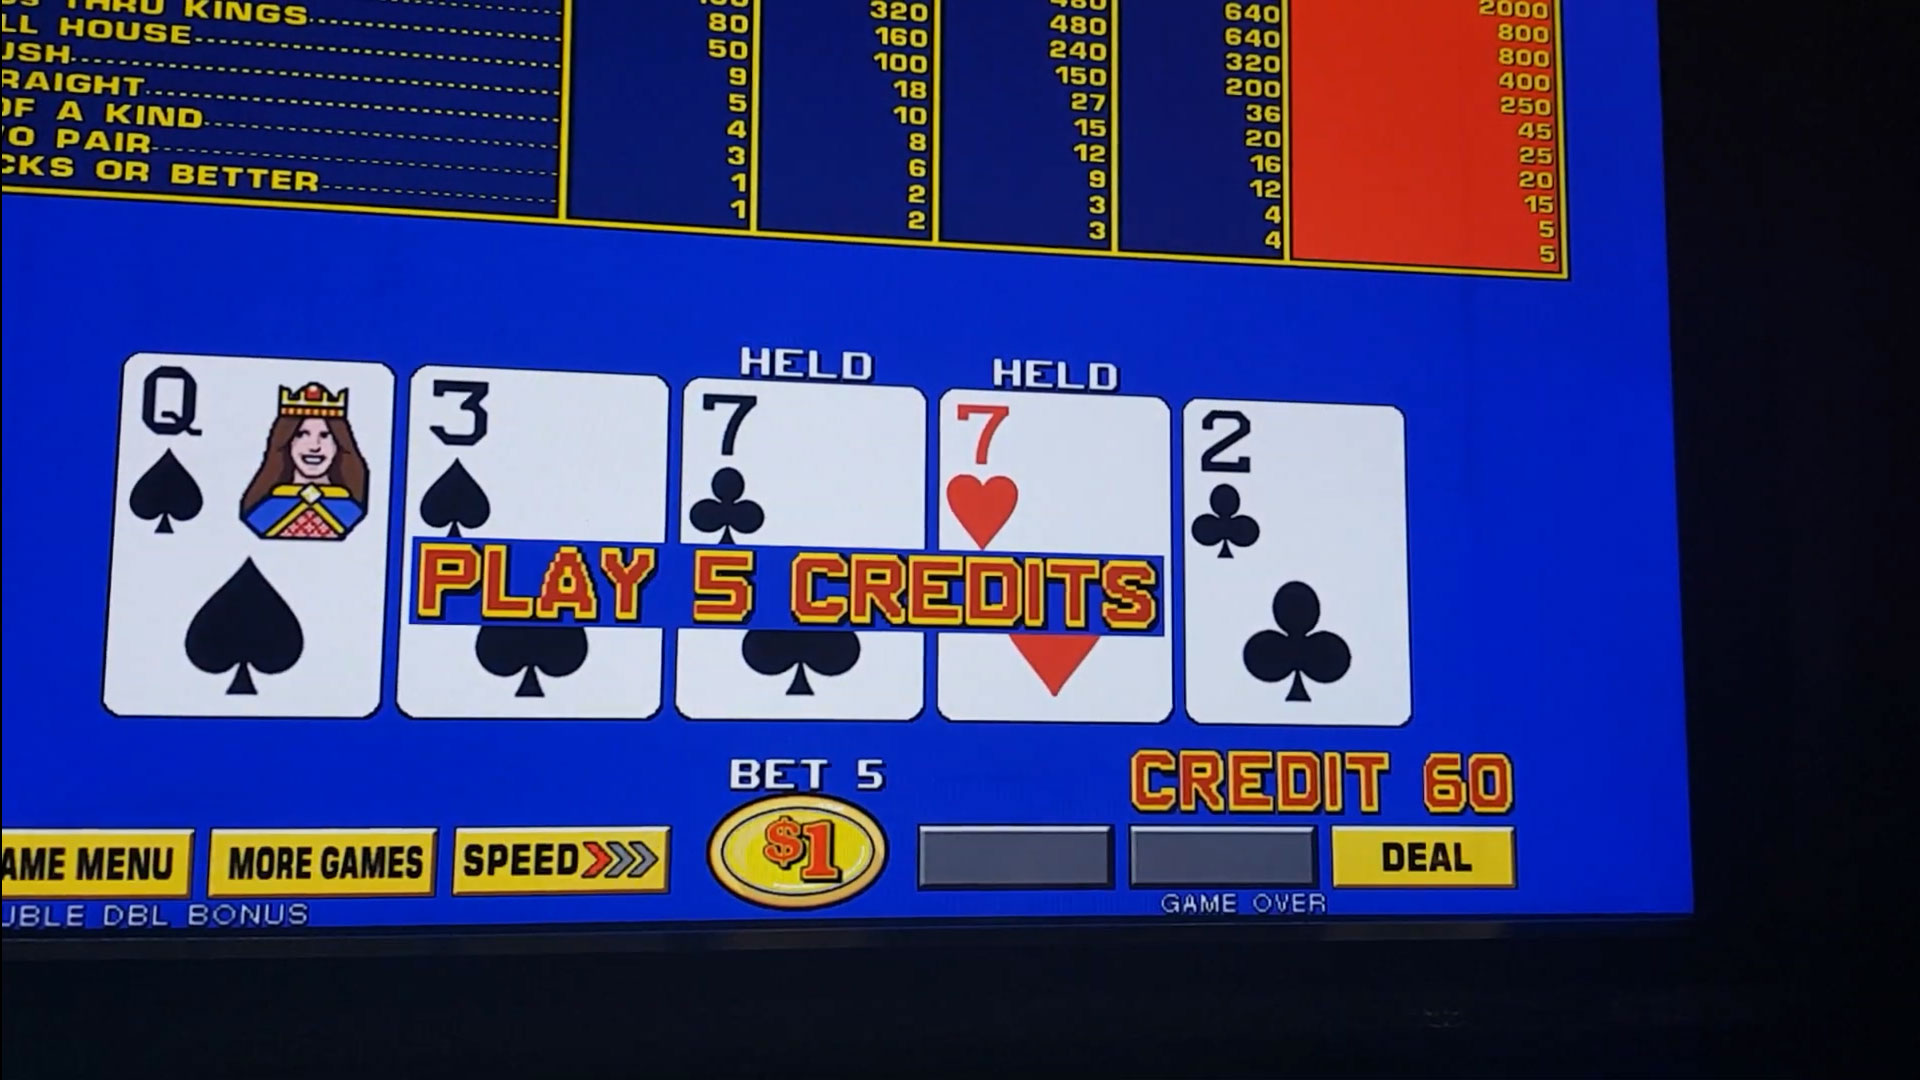C2: (1191, 409, 1394, 567)
C7: (688, 388, 919, 541)
H7: (944, 397, 1163, 550)
S3: (415, 380, 659, 535)
SQ: (135, 364, 386, 549)
